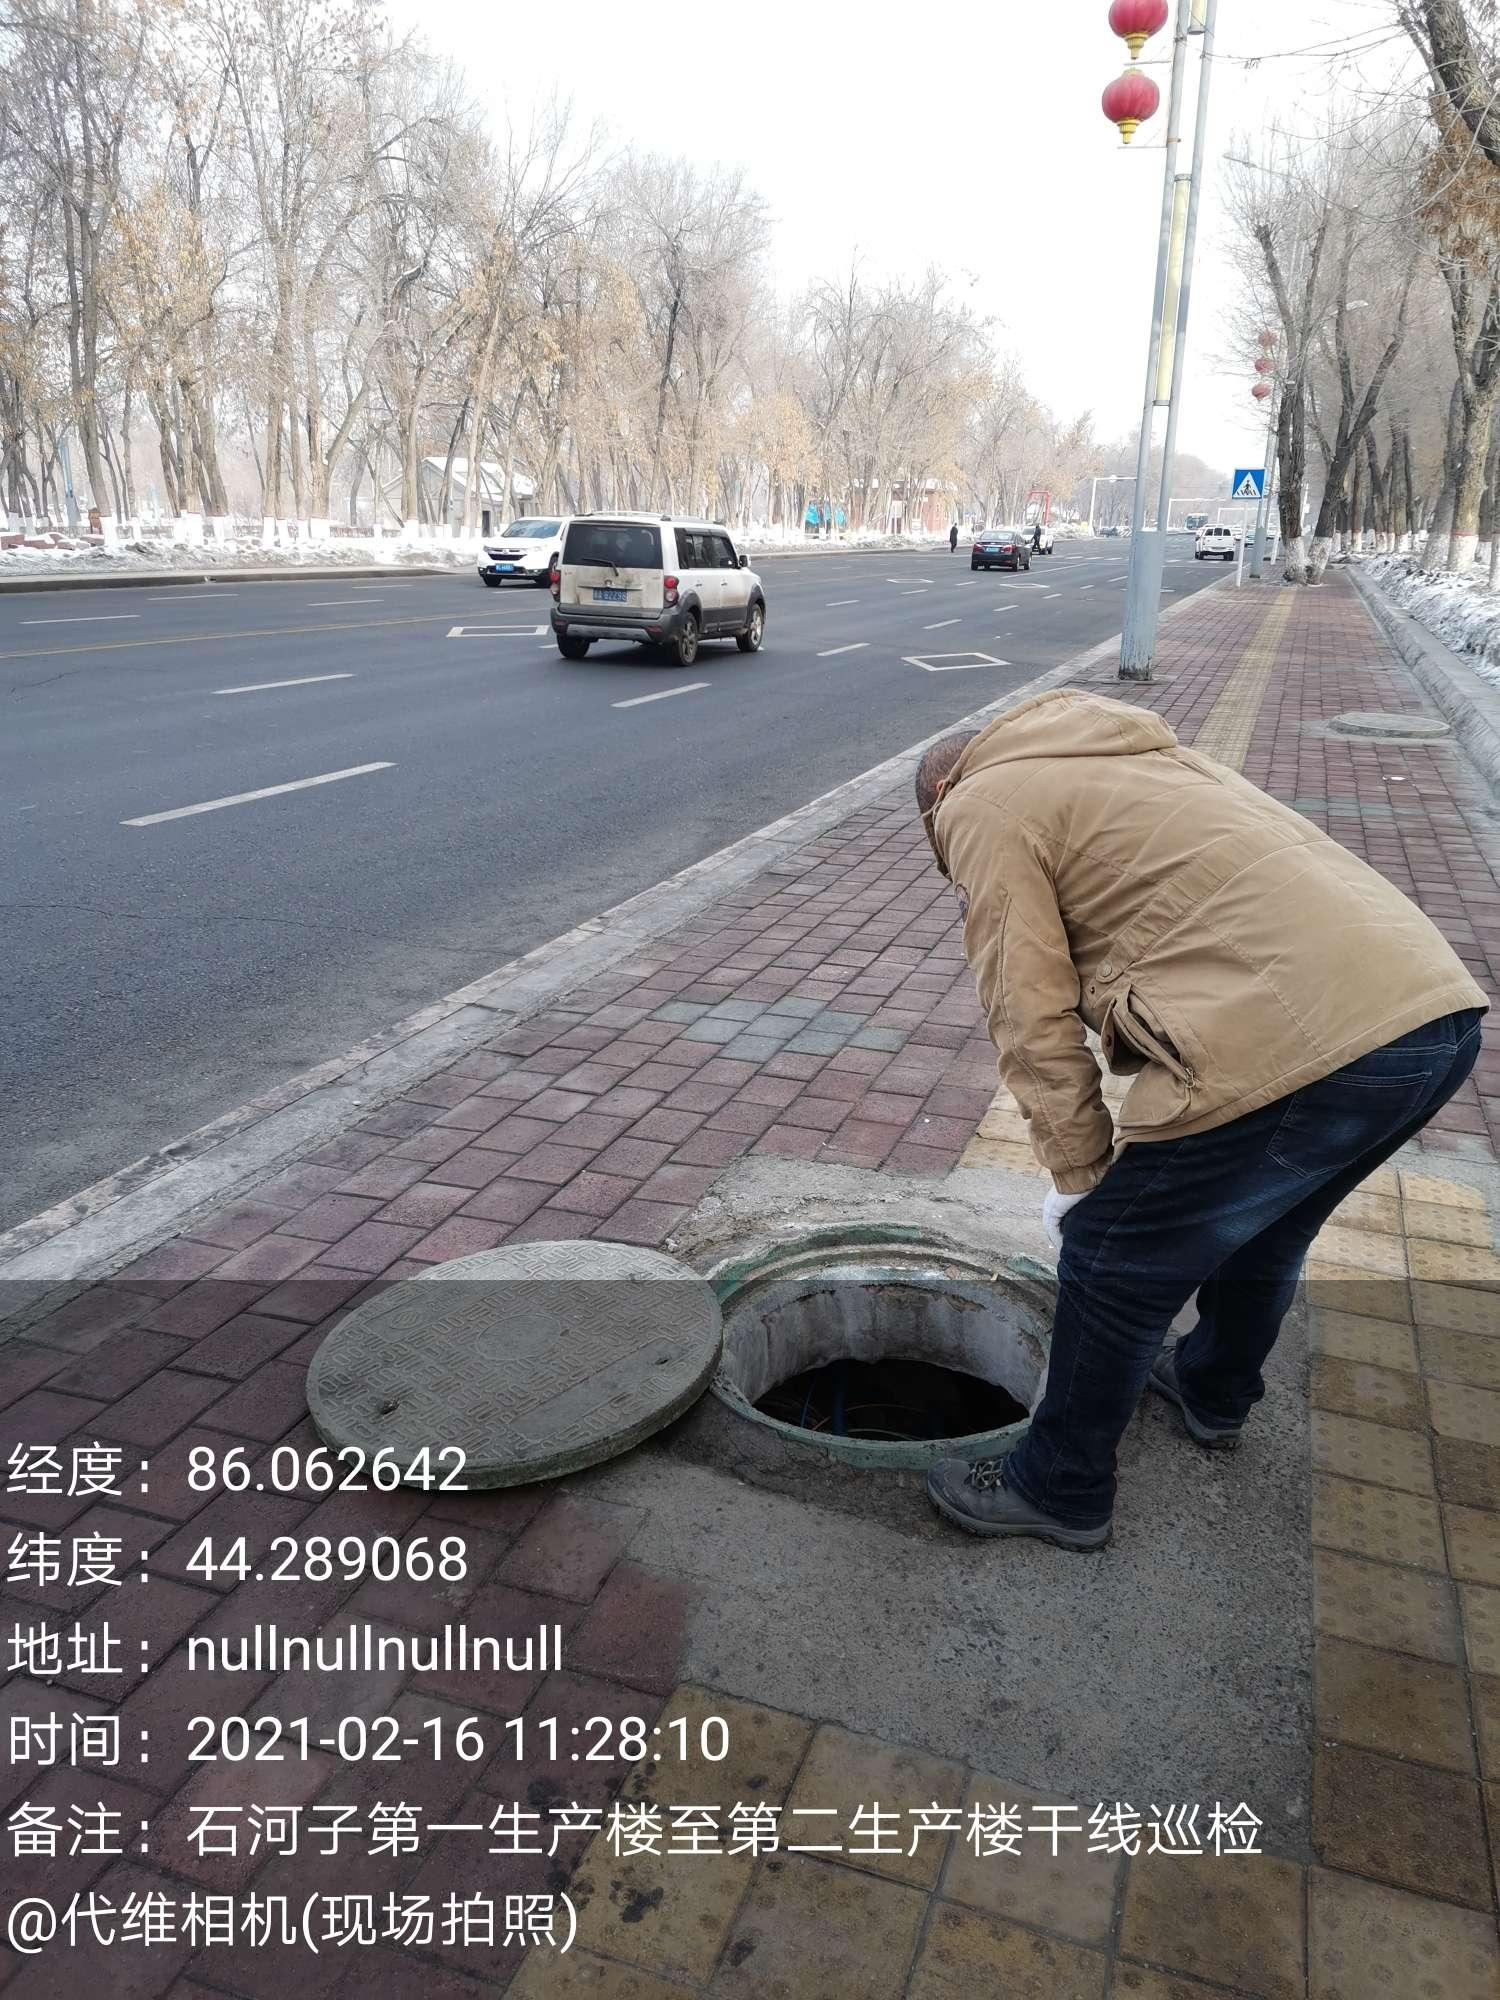wellcover: (205, 1178, 1142, 1548)
